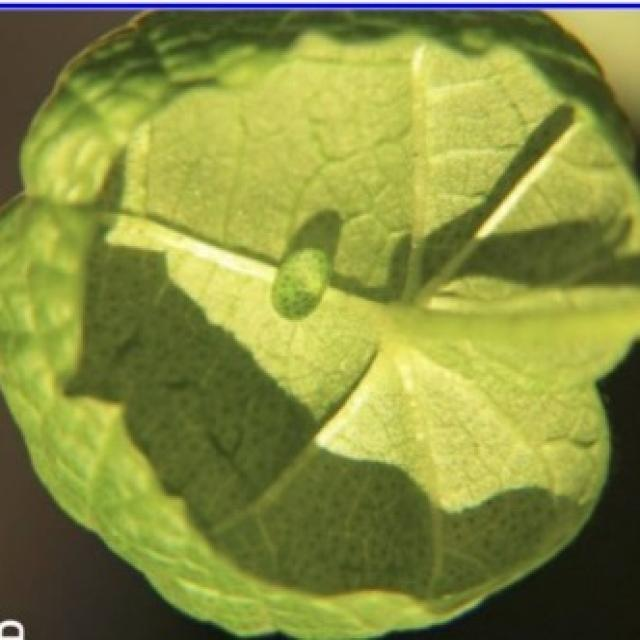Leaf Curl Virus: (86, 41, 610, 596)
